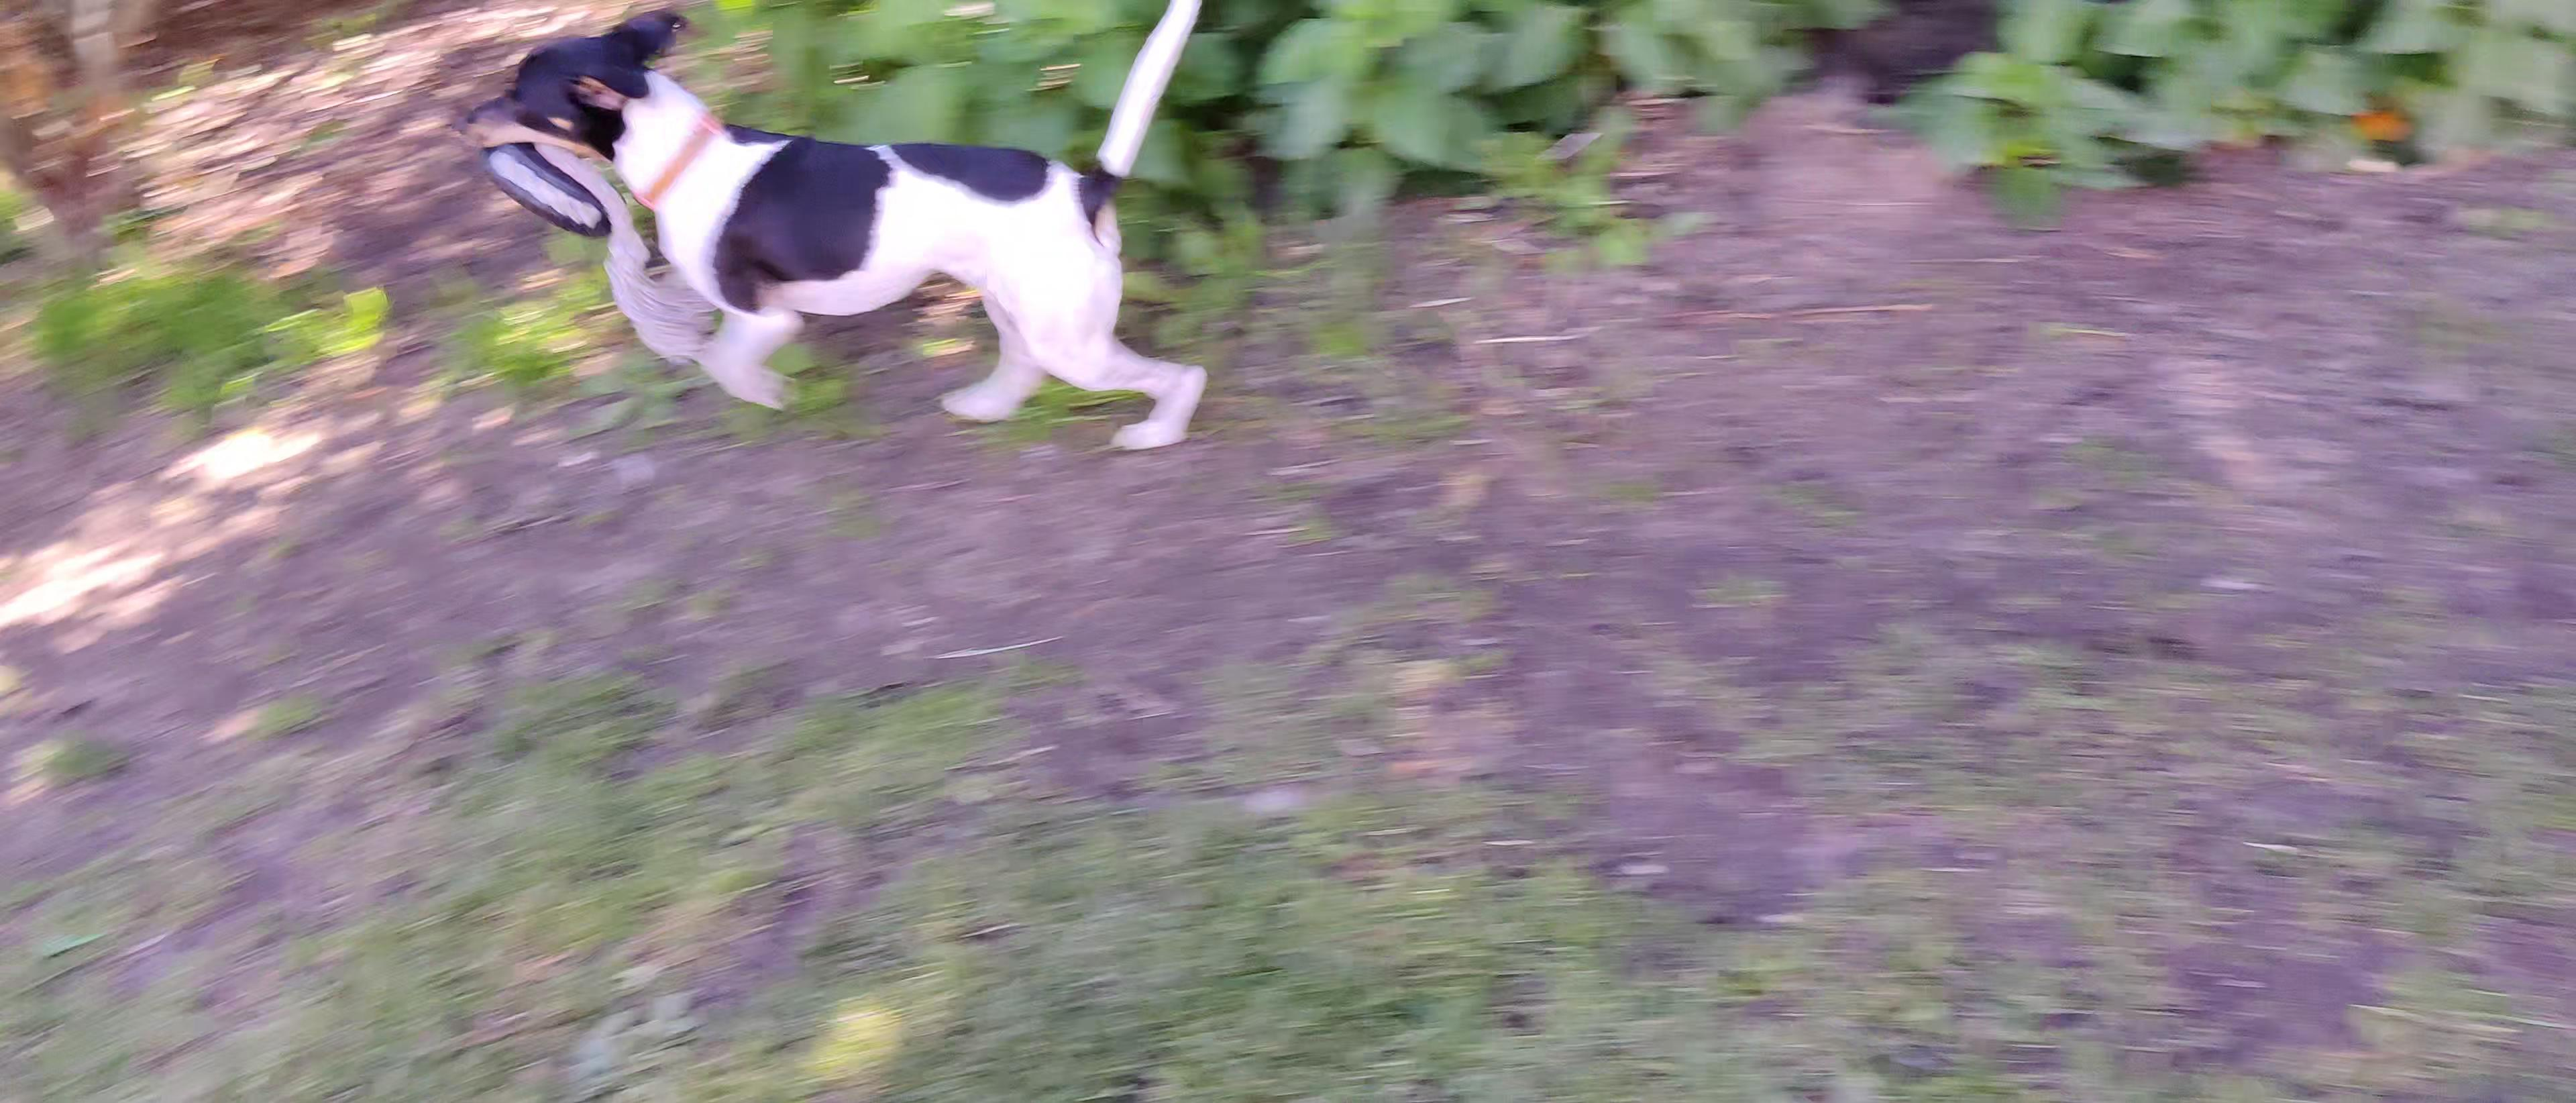Dog: (444, 0, 1240, 468)
